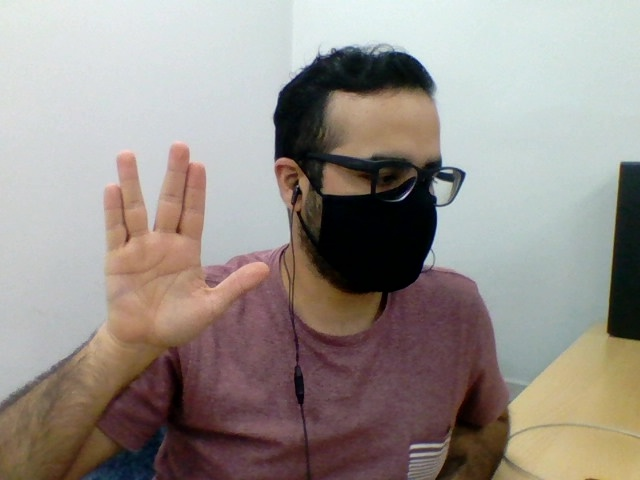LiveLong: (102, 140, 271, 351)
